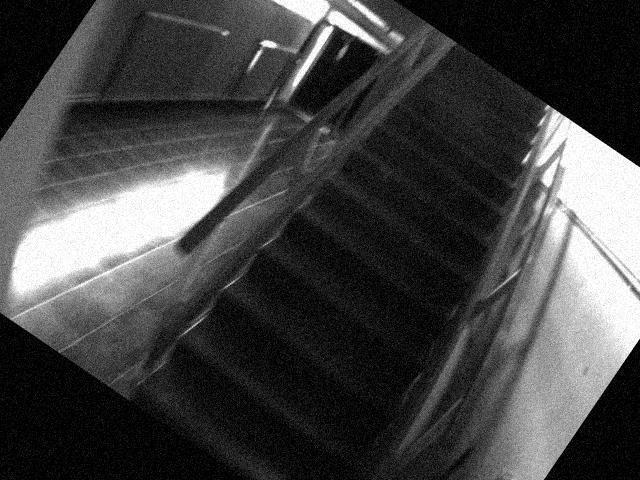Escaleras: (146, 33, 573, 480)
